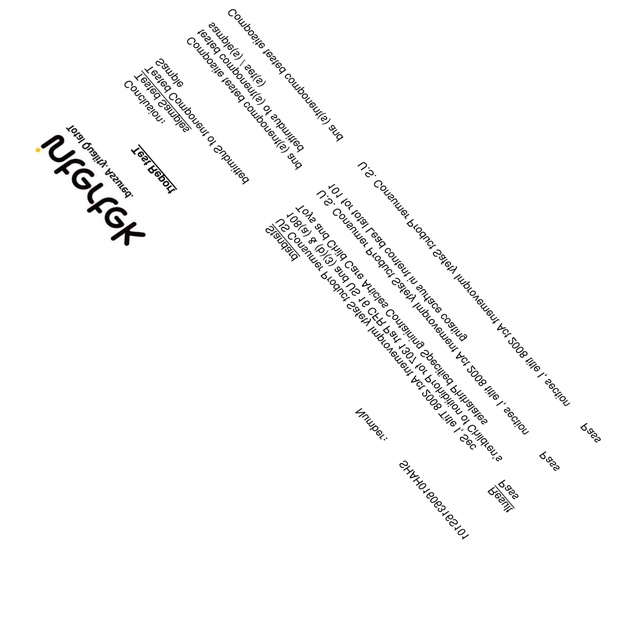intertek: (32, 130, 146, 249)
